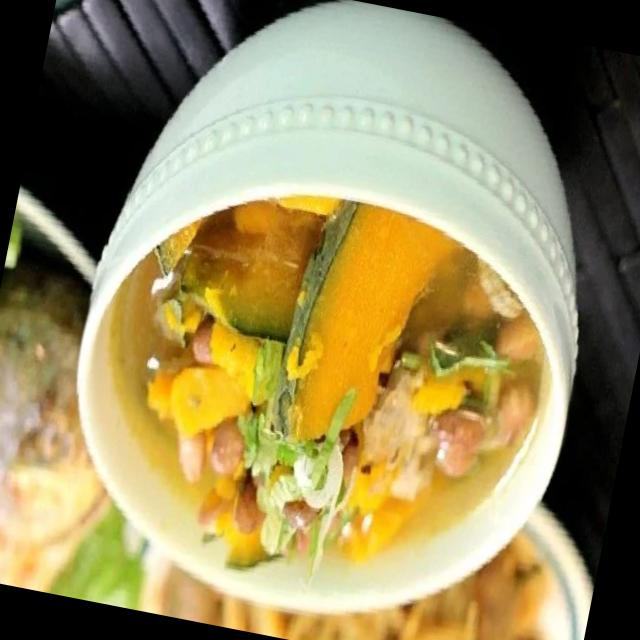canh bi do: (111, 195, 543, 565)
